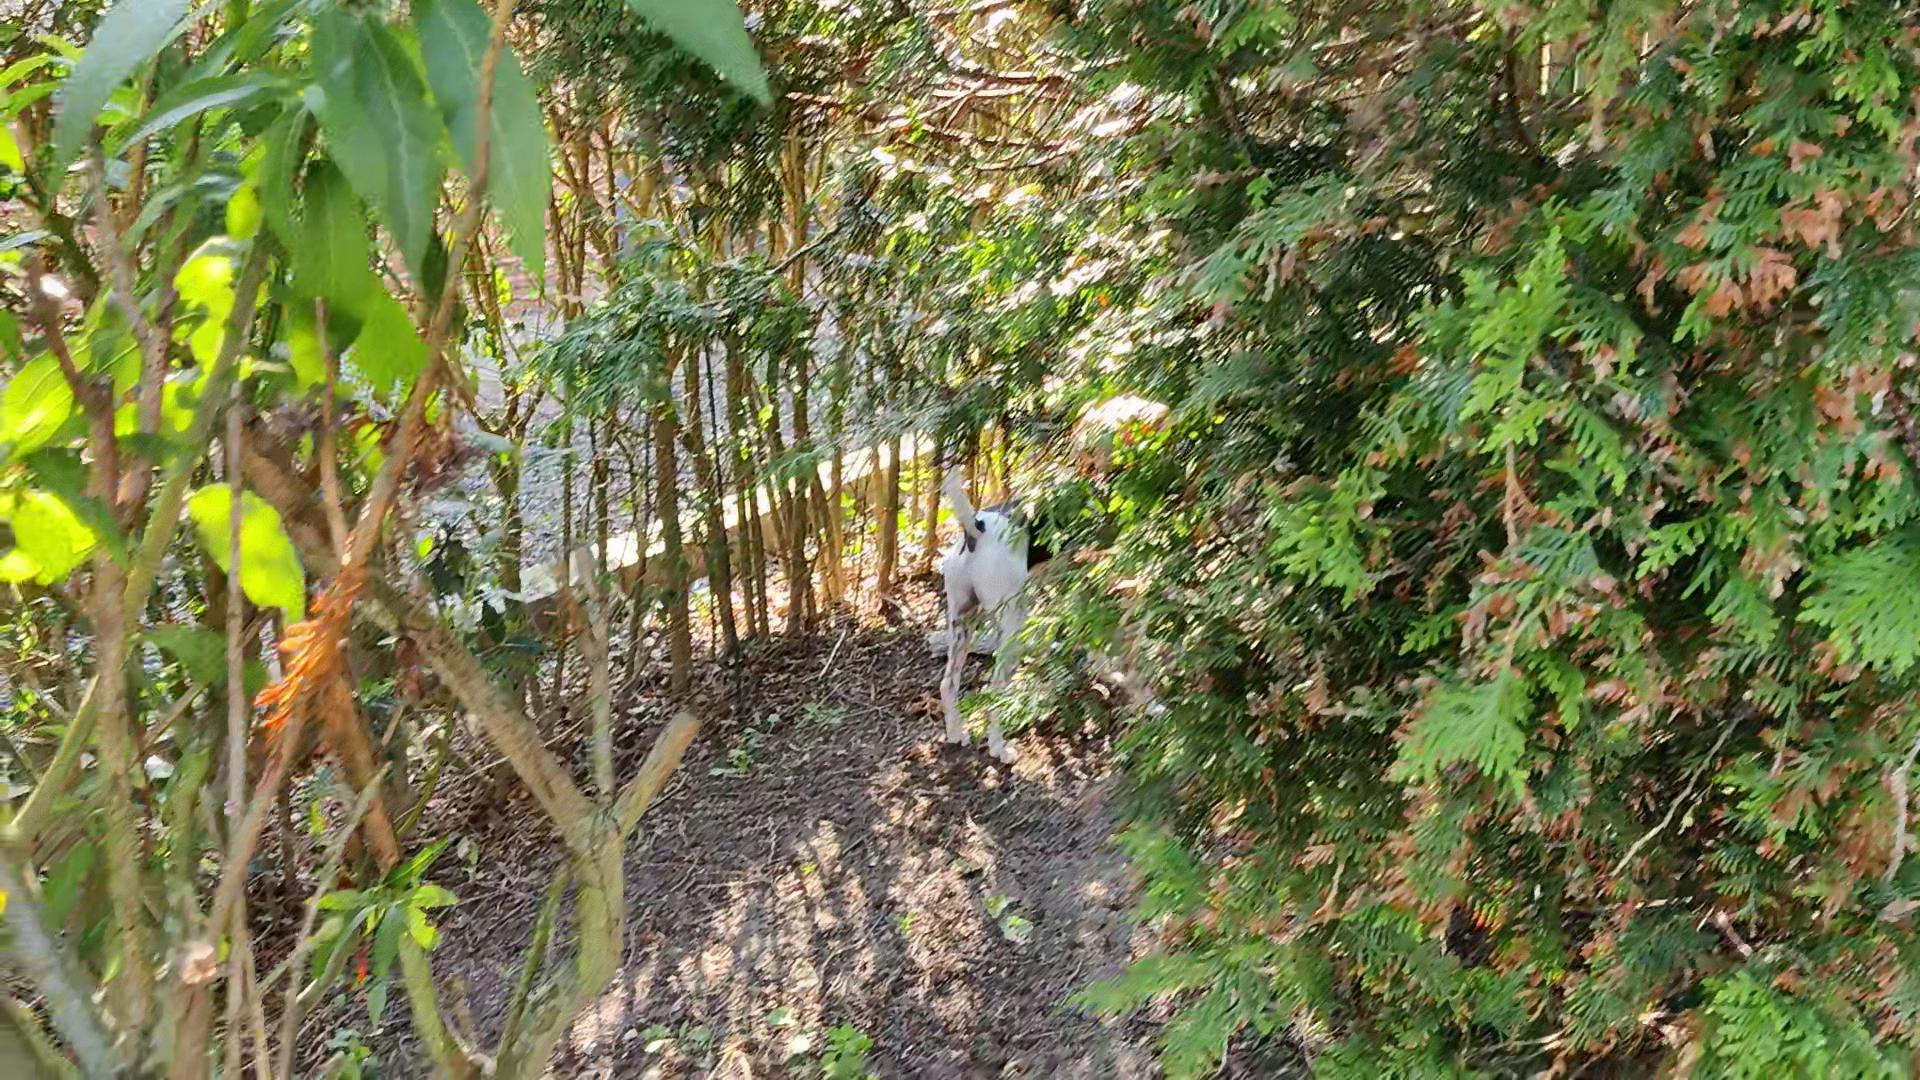Dog: (919, 419, 1083, 775)
